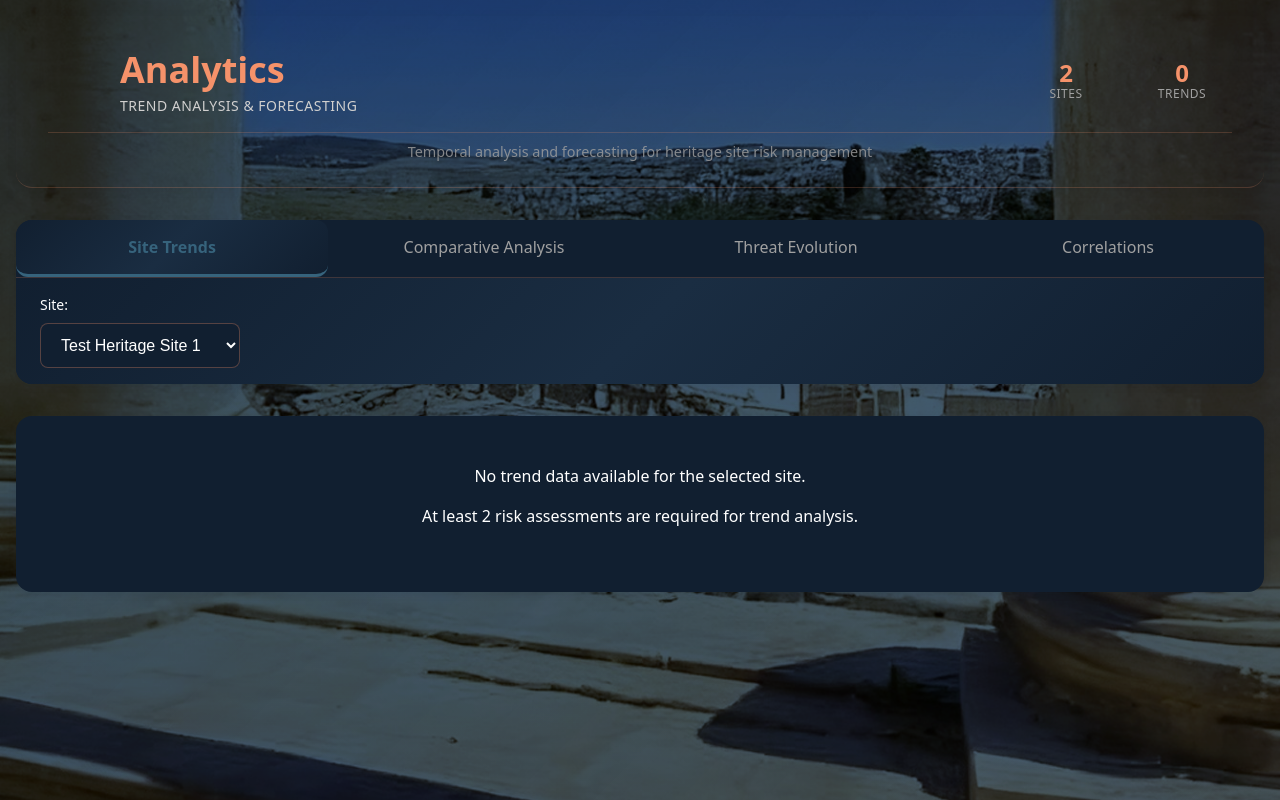
Test: TrendDashboard › shows correlations view
Click the button "Correlations" at (1108, 248), box top-left (952, 220), bottom-right (1264, 277)
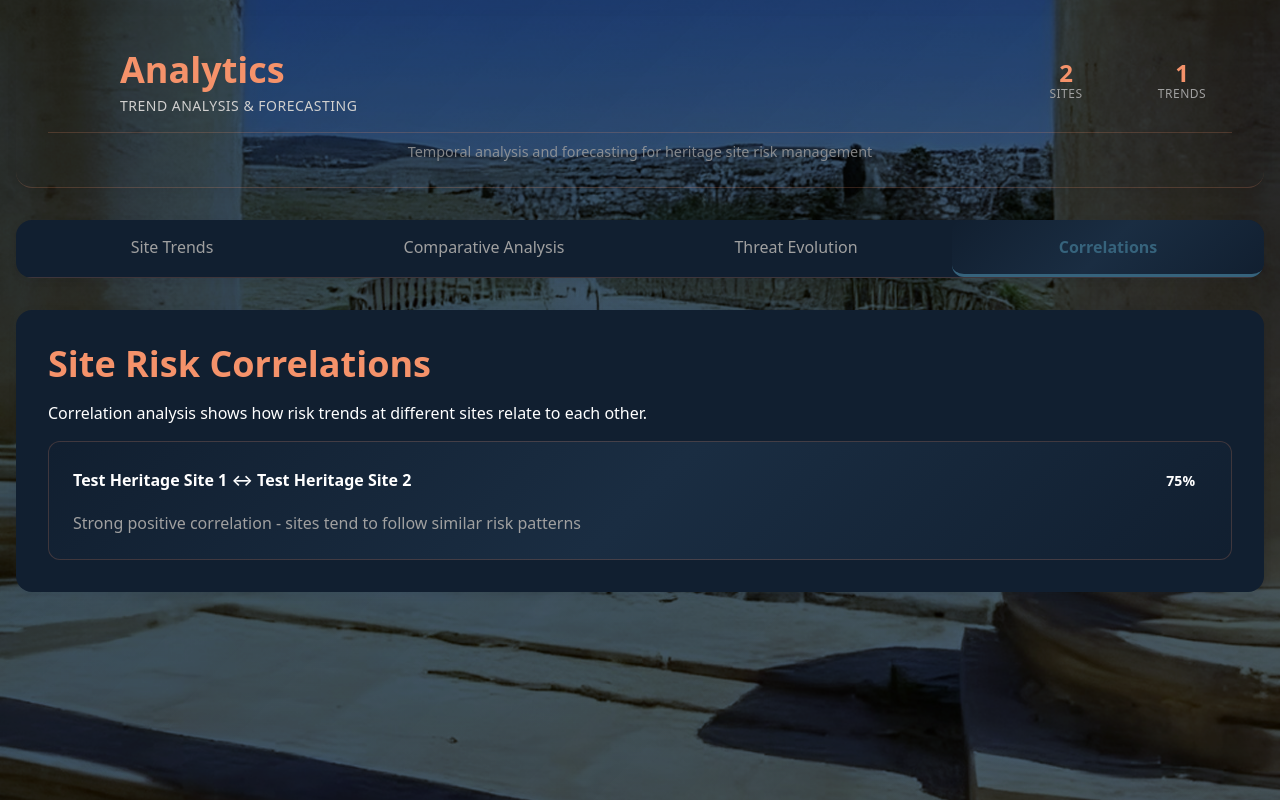
Expected: the heading "Site Risk Correlations" is shown, top-left (48, 339), bottom-right (431, 388)
